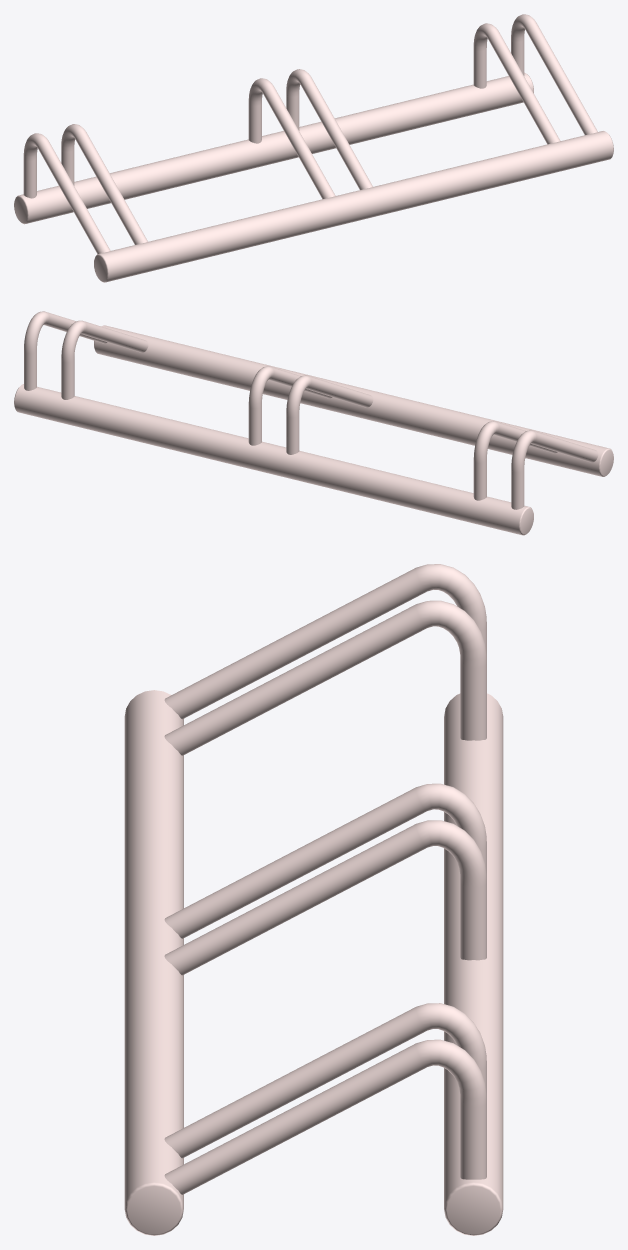
Rendered from Town_19_Bicycle_Parking_Rack_1.glb.
3 renders of one model, top to bottom at view 1: azimuth 30°, elevation 25°; view 2: azimuth 150°, elevation 25°; view 3: azimuth 270°, elevation 25°, orthographic. The views are drawn at different scales.
Visible parts, largest first — view 1: Town_19_Bicycle_Parking_Rack_1; view 2: Town_19_Bicycle_Parking_Rack_1; view 3: Town_19_Bicycle_Parking_Rack_1.
Part boxes in pixels (box(x1,y1,x2,y2)): Town_19_Bicycle_Parking_Rack_1: box(14, 14, 613, 282); Town_19_Bicycle_Parking_Rack_1: box(14, 311, 613, 535); Town_19_Bicycle_Parking_Rack_1: box(124, 564, 503, 1235).
Size of the model in its own units: 2.63 by 0.4631 by 0.8508.
Materials: 1 (1 with a texture image).
